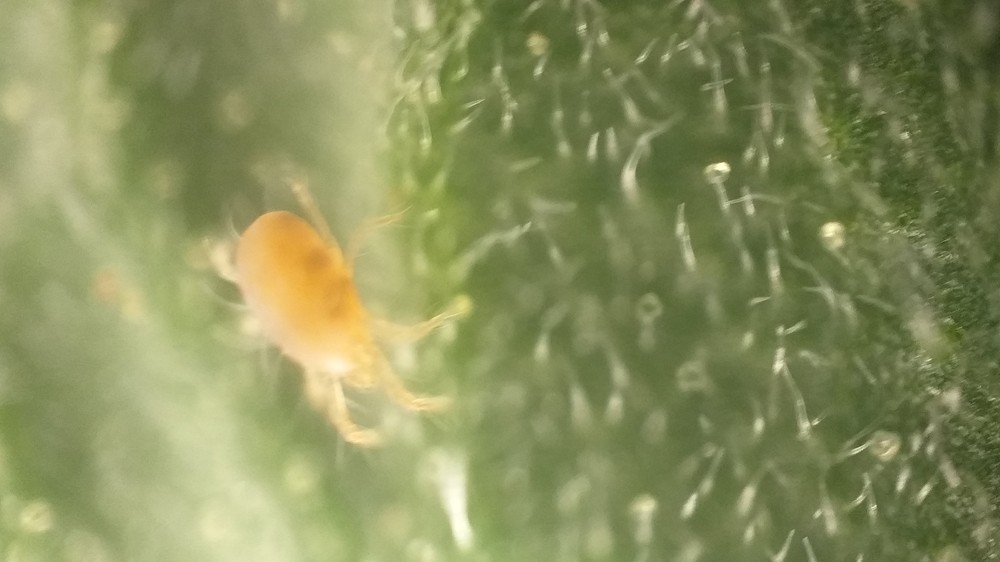Aracnido Rojo: (193, 184, 515, 450)
